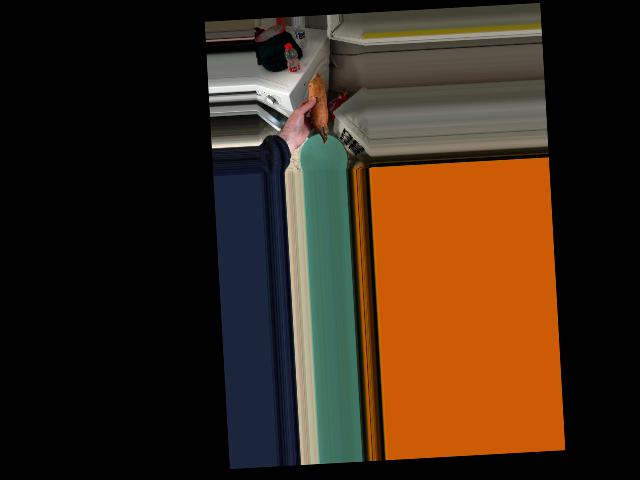sweet_potato: (302, 81, 329, 142)
